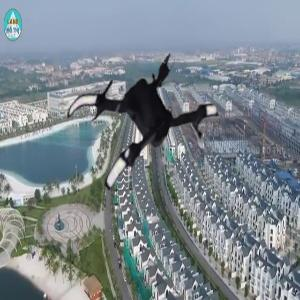drone: (66, 35, 234, 203)
